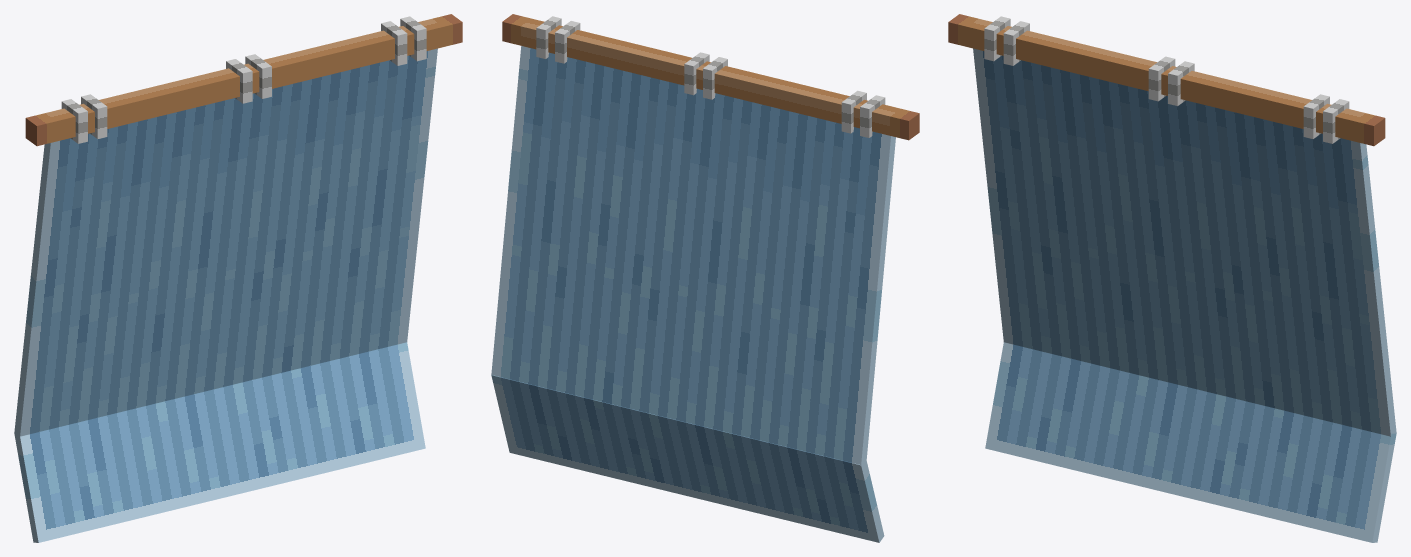
The model's file is icon_smoothsail(1).gltf.
The picture shows the model from 3 angles, left to right: view 1: azimuth 30°, elevation 25°; view 2: azimuth 150°, elevation 25°; view 3: azimuth 330°, elevation 25°; orthographic projection. The views are drawn at different scales.
Parts seen in each view (by area): view 1: A2-Local, A3-Local, XX1-Local, X4-Local; view 2: A2-Local, A3-Local, XX1-Local, X4-Local; view 3: A2-Local, A3-Local, XX1-Local, X4-Local.
Boxes of the visible parts, left/top/right/bottom form: A2-Local: left=14, top=48, right=437, bottom=438; A3-Local: left=14, top=342, right=425, bottom=542; XX1-Local: left=25, top=14, right=462, bottom=146; X4-Local: left=61, top=16, right=426, bottom=143; A2-Local: left=491, top=46, right=895, bottom=464; A3-Local: left=491, top=375, right=884, bottom=542; XX1-Local: left=502, top=14, right=919, bottom=140; X4-Local: left=536, top=16, right=885, bottom=137; A2-Local: left=973, top=48, right=1396, bottom=436; A3-Local: left=985, top=342, right=1396, bottom=542; XX1-Local: left=948, top=14, right=1385, bottom=146; X4-Local: left=984, top=16, right=1349, bottom=143.
Bounding box in the file's own units: 44 × 43.74 × 7.99.
4 materials, 4 textured.
